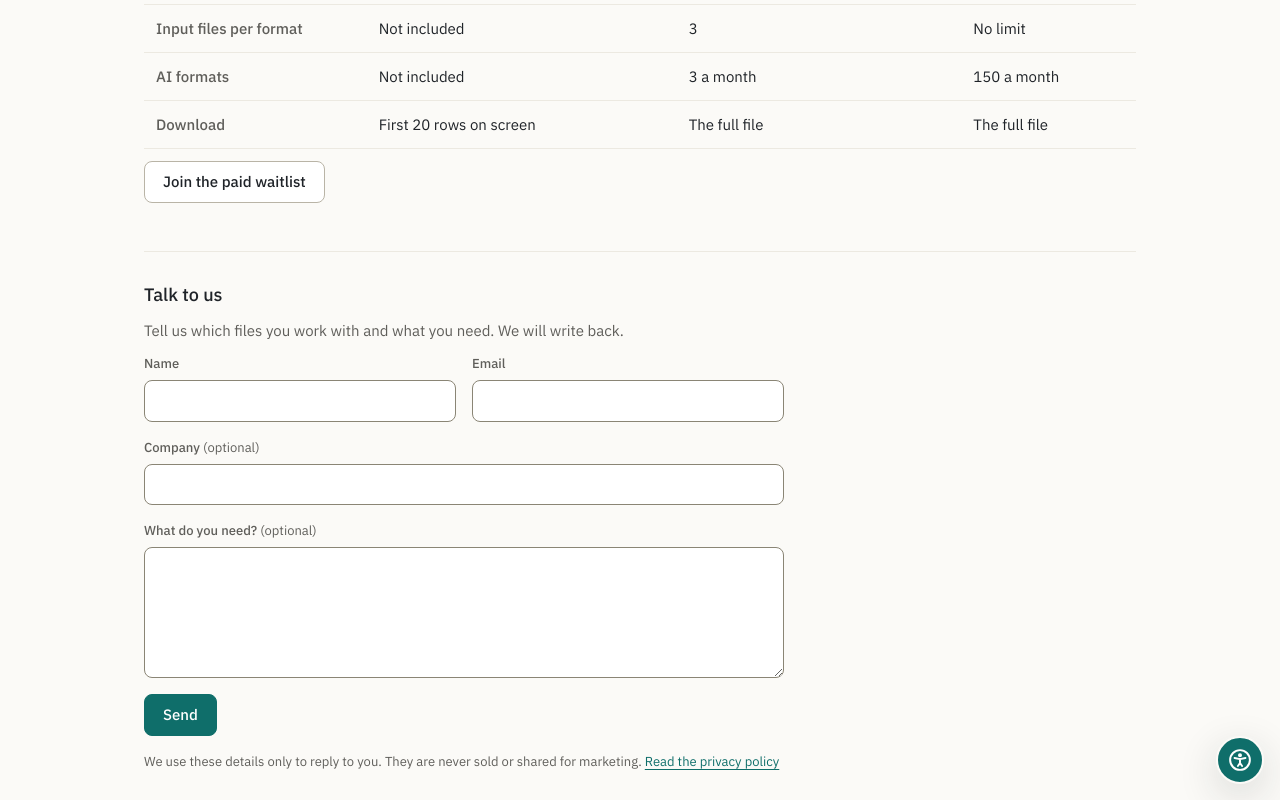
Test: the lead form on the business page › shows what the server said when it says turnstileFailed, and keeps what was typed
The image size is (1280, 800).
(page scrolled)
Type "Dana Levi" into the field labelled "Name" at {"x": 300, "y": 401}, box [144,380,456,422]
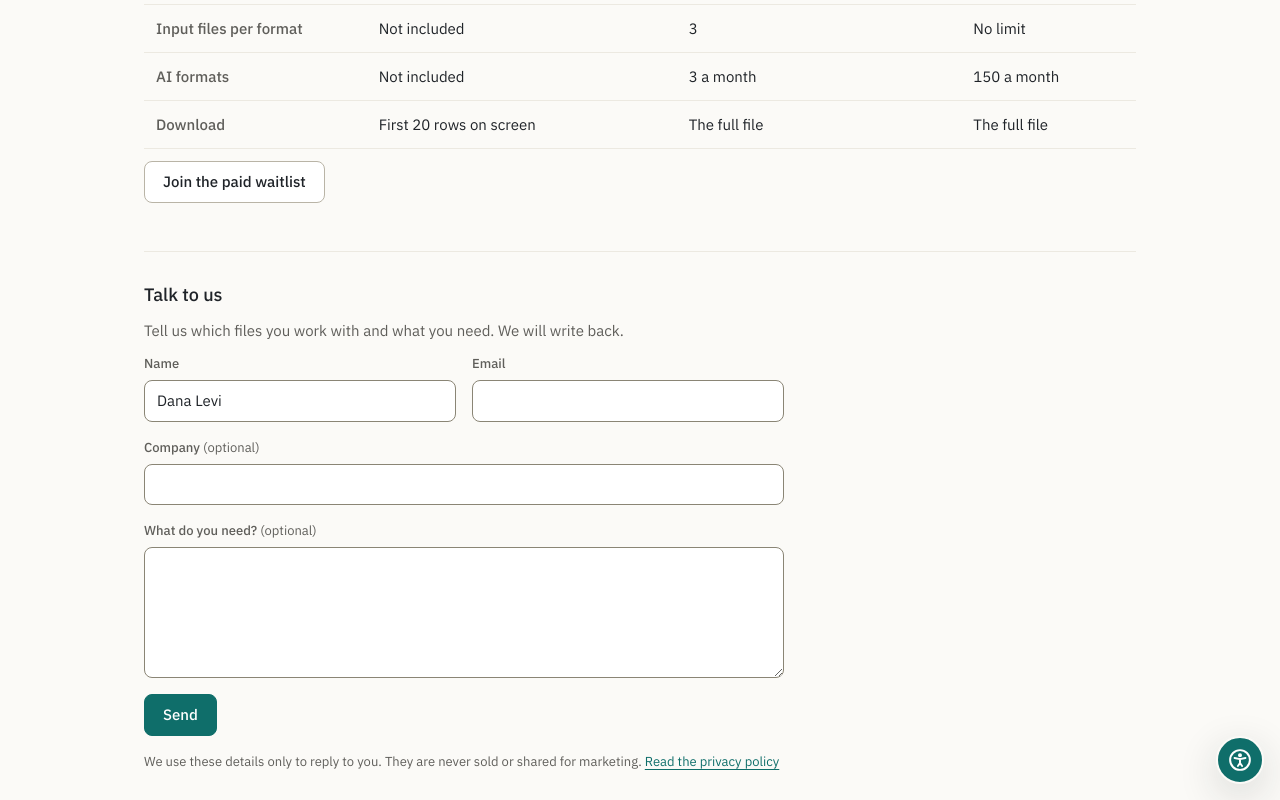
Type "dana@example.com" into the field labelled "Email" at {"x": 628, "y": 401}, box [472,380,784,422]
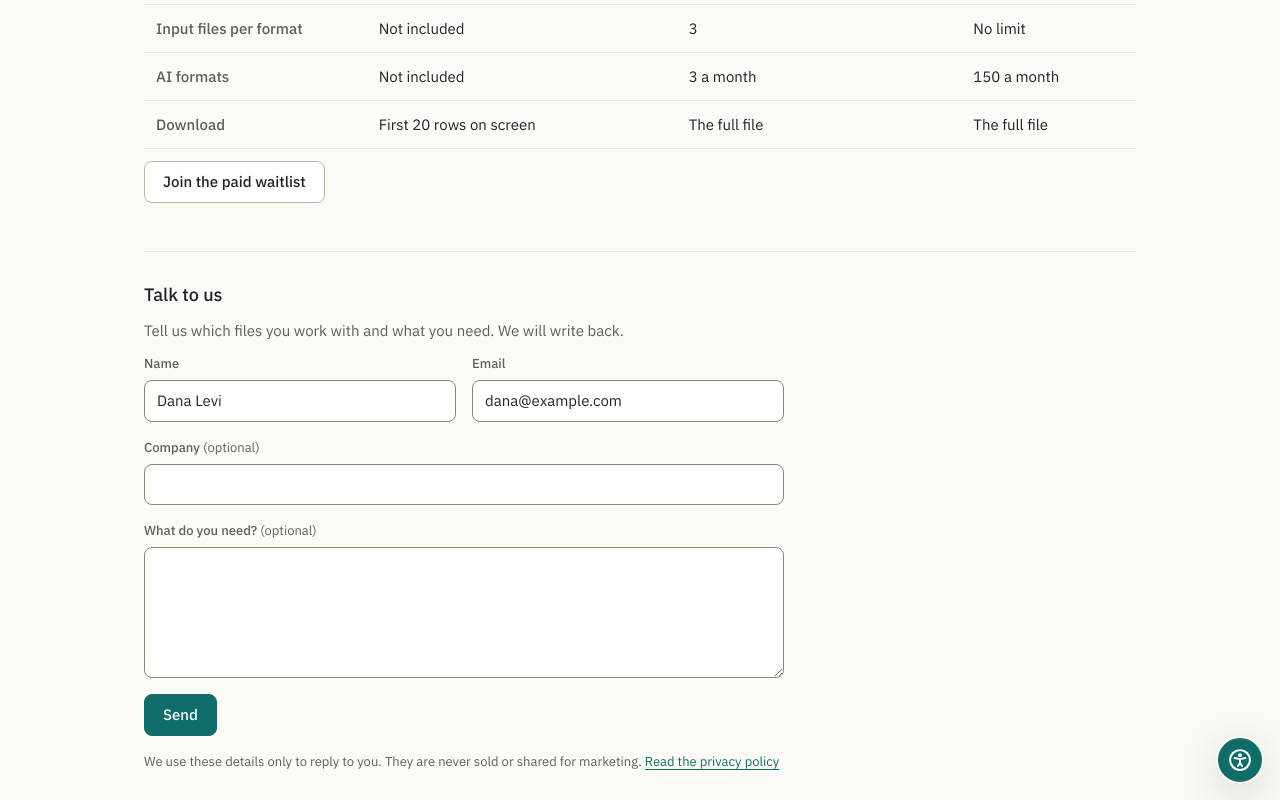
Type "Acme Ltd" into the field labelled "Company (optional)" at {"x": 464, "y": 484}, box [144,464,784,505]
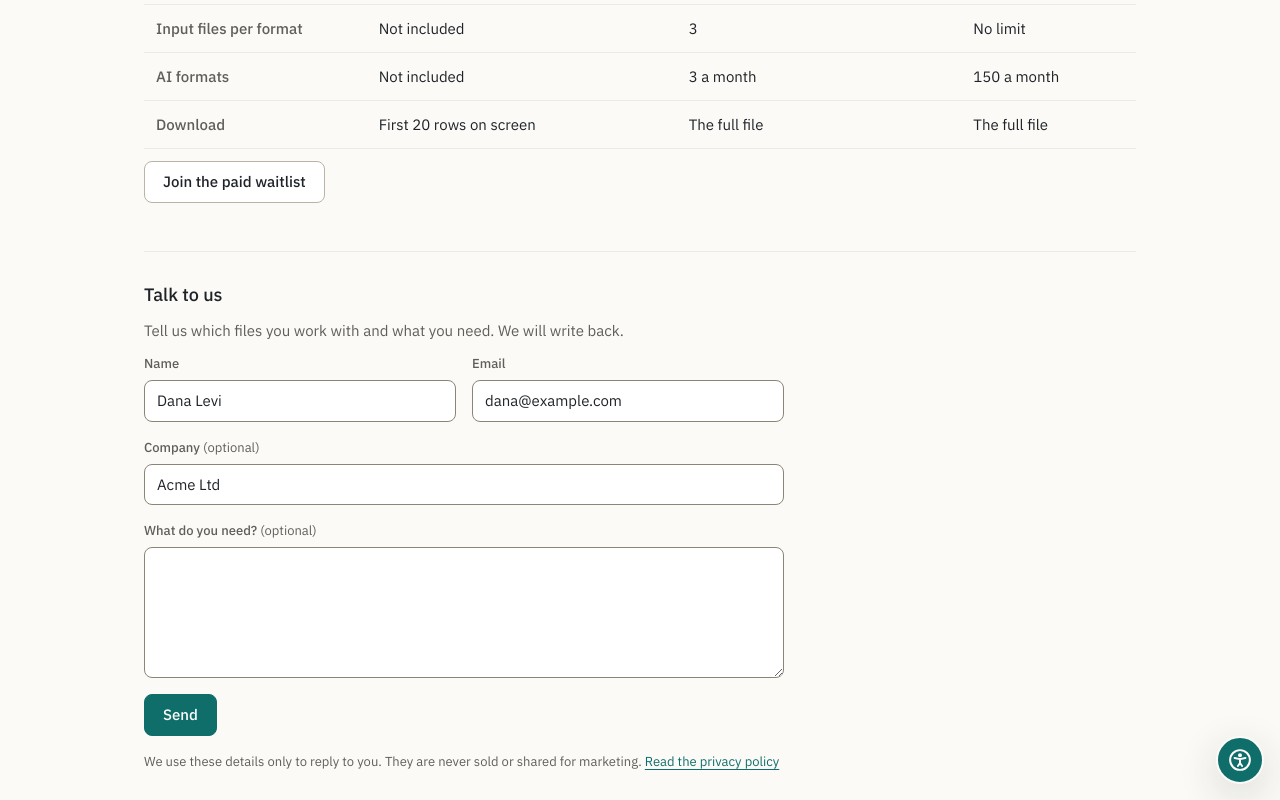
Type "Thirty supplier files a month." into the text box labelled "What do you need? (optional)" at {"x": 464, "y": 612}, box [144,547,784,678]
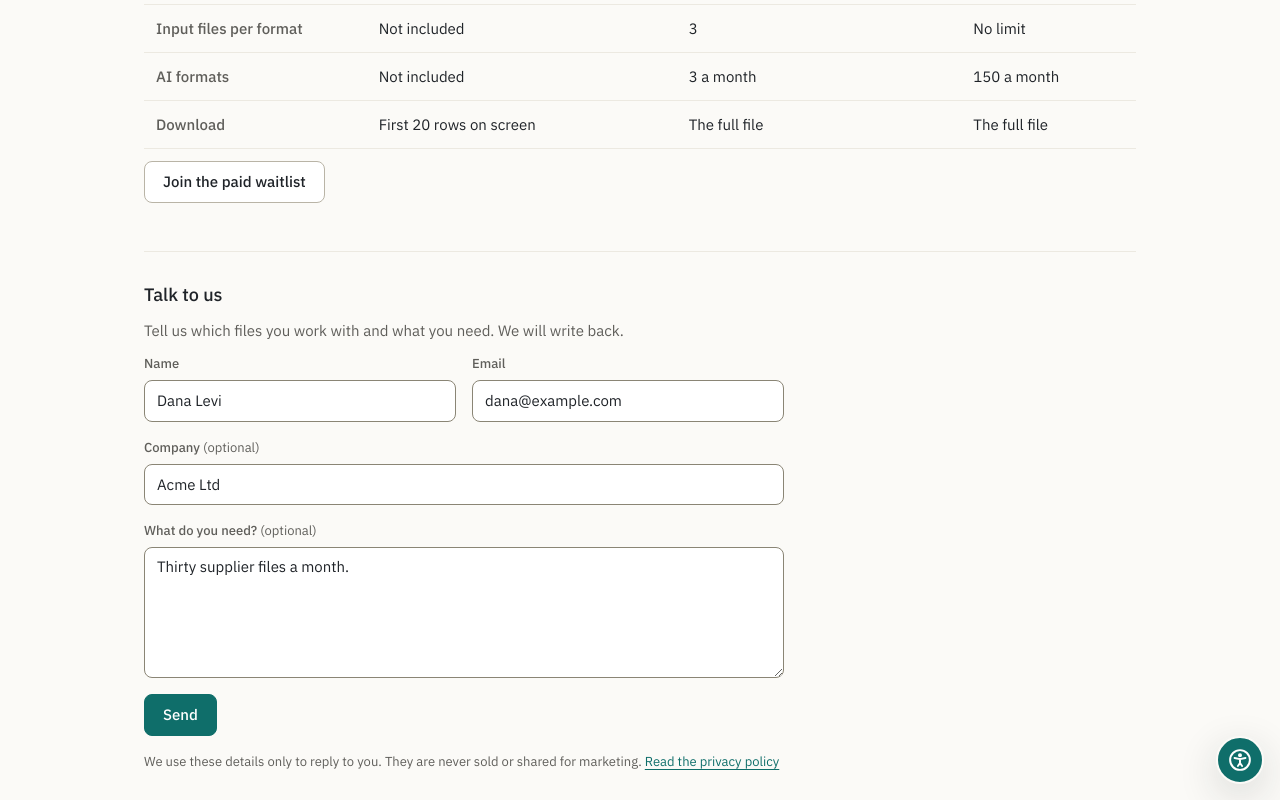
Click the button "Send" at {"x": 180, "y": 715}, box [144,694,217,736]
(page scrolled)
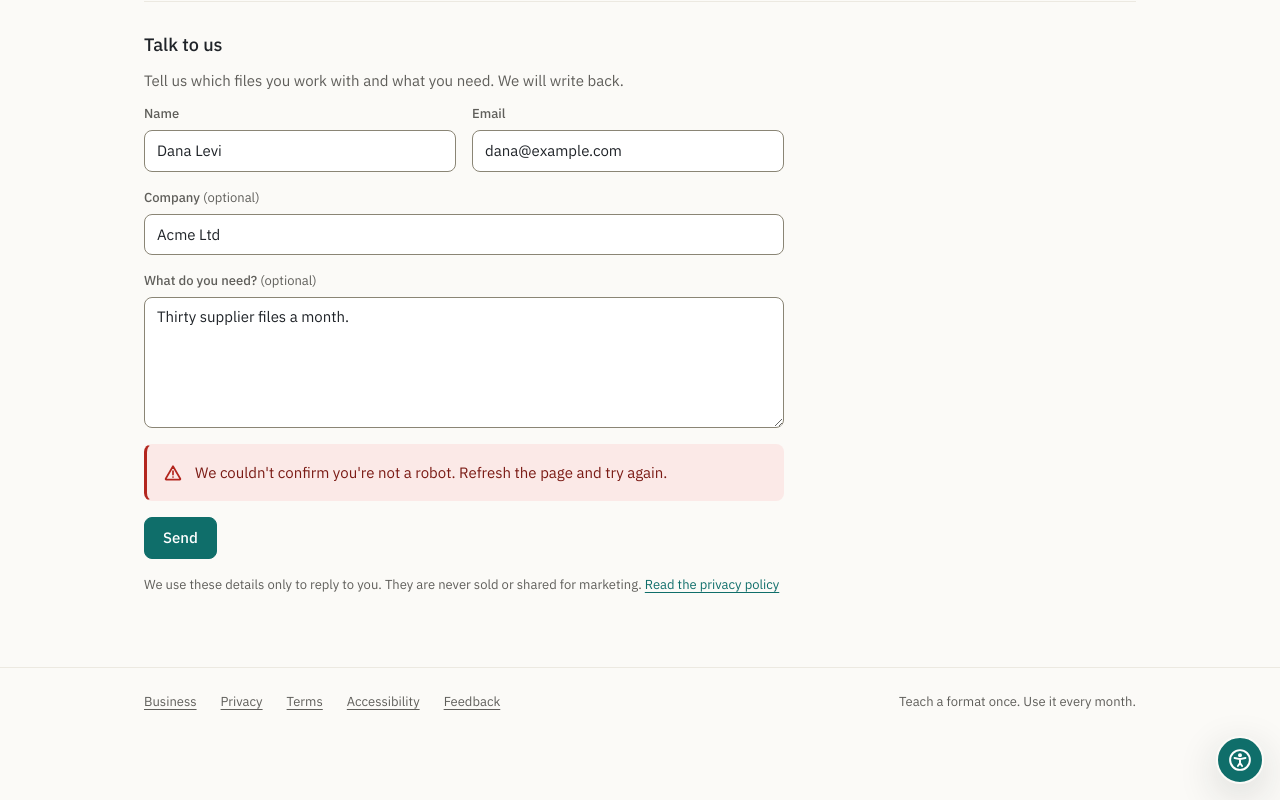
Expected: the button "Send" is enabled, [144,517,217,559]
Now the text "We couldn't confirm you're not a robot. Refresh the page and try again." is shown, box [195,461,667,484]
